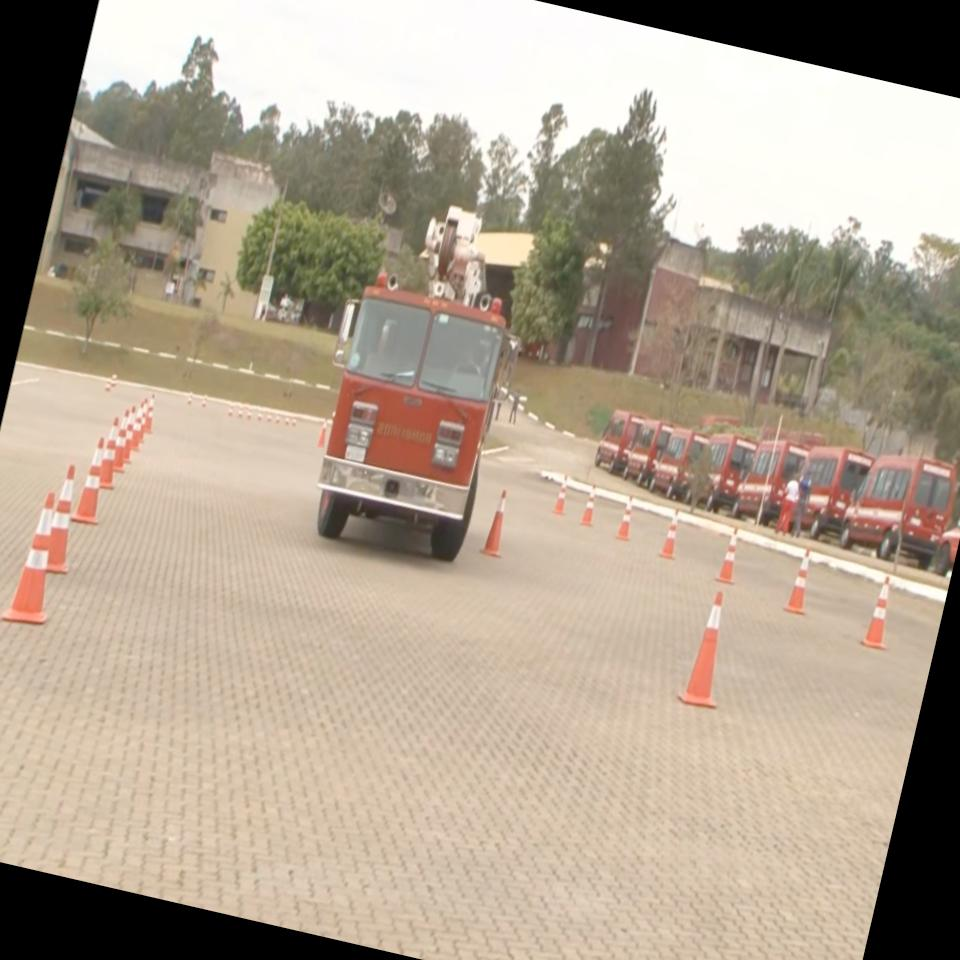viatura: (292, 186, 548, 570)
